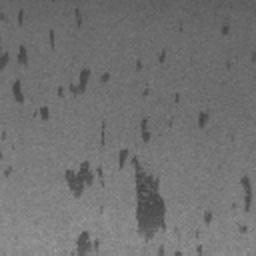Red iron sheet: (65, 93, 252, 256), (0, 8, 110, 177), (137, 49, 166, 70), (77, 230, 99, 256), (221, 24, 230, 36)
